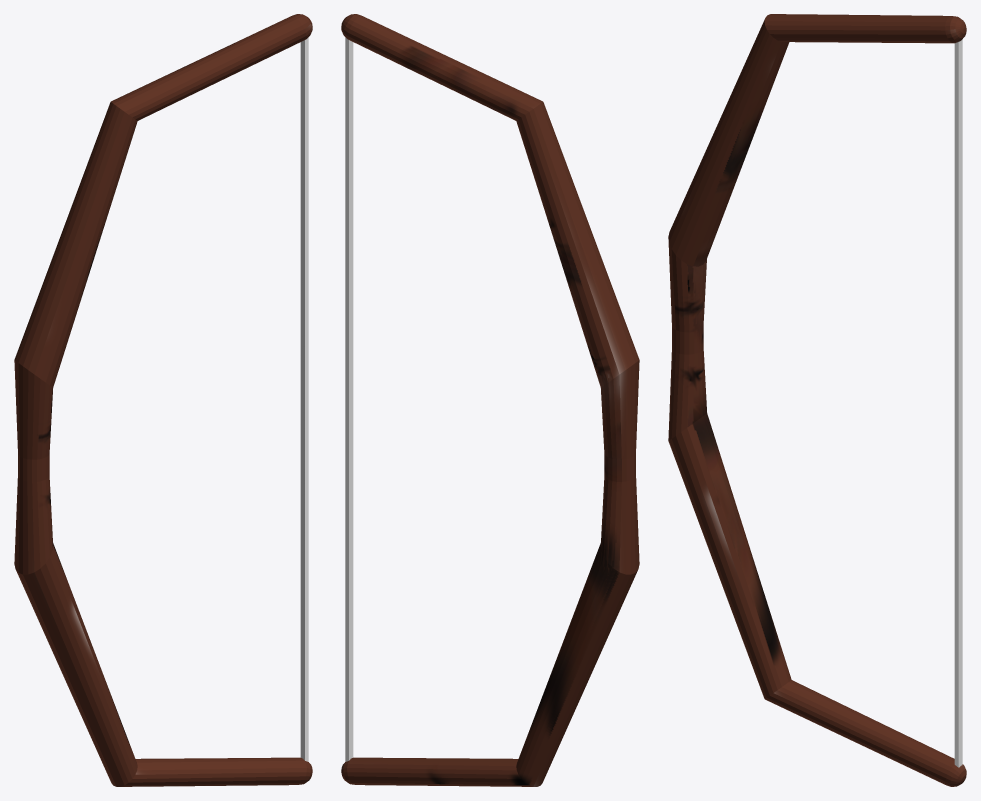
Rendered from player_bow.fbx.
3 views of the same model, side by side, from view 1: azimuth 30°, elevation 25°; view 2: azimuth 150°, elevation 25°; view 3: azimuth 330°, elevation 25° (orthographic).
Visible parts, largest first — view 1: Sphere; view 2: Sphere; view 3: Sphere.
Boxes of the visible parts, x1=… form: Sphere: x1=14, y1=14, x2=312, y2=786; Sphere: x1=341, y1=14, x2=639, y2=786; Sphere: x1=668, y1=14, x2=966, y2=786.
Size of the model in its own units: 121 by 304 by 17.12.
Materials: 1 (1 with a texture image).
